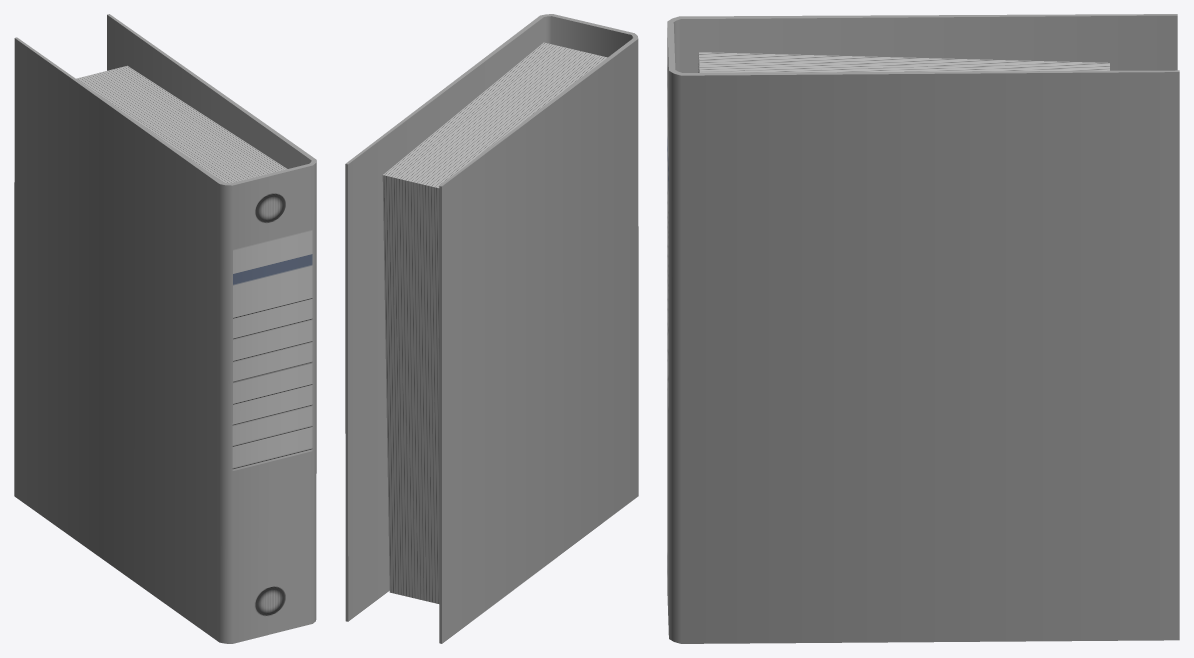
File: Office file binder_002.FBX
The picture shows the model from 3 angles, left to right: view 1: azimuth 30°, elevation 25°; view 2: azimuth 150°, elevation 25°; view 3: azimuth 270°, elevation 25°; orthographic projection. The views are drawn at different scales.
Visible parts, largest first — view 1: Office file binder_002; view 2: Office file binder_002; view 3: Office file binder_002.
Boxes of the visible parts, x1,y1,x2,y2 form: Office file binder_002: (14, 14, 316, 643); Office file binder_002: (345, 14, 638, 643); Office file binder_002: (667, 14, 1179, 643).
Size of the model in its own units: 0.0746 by 0.3203 by 0.2617.
